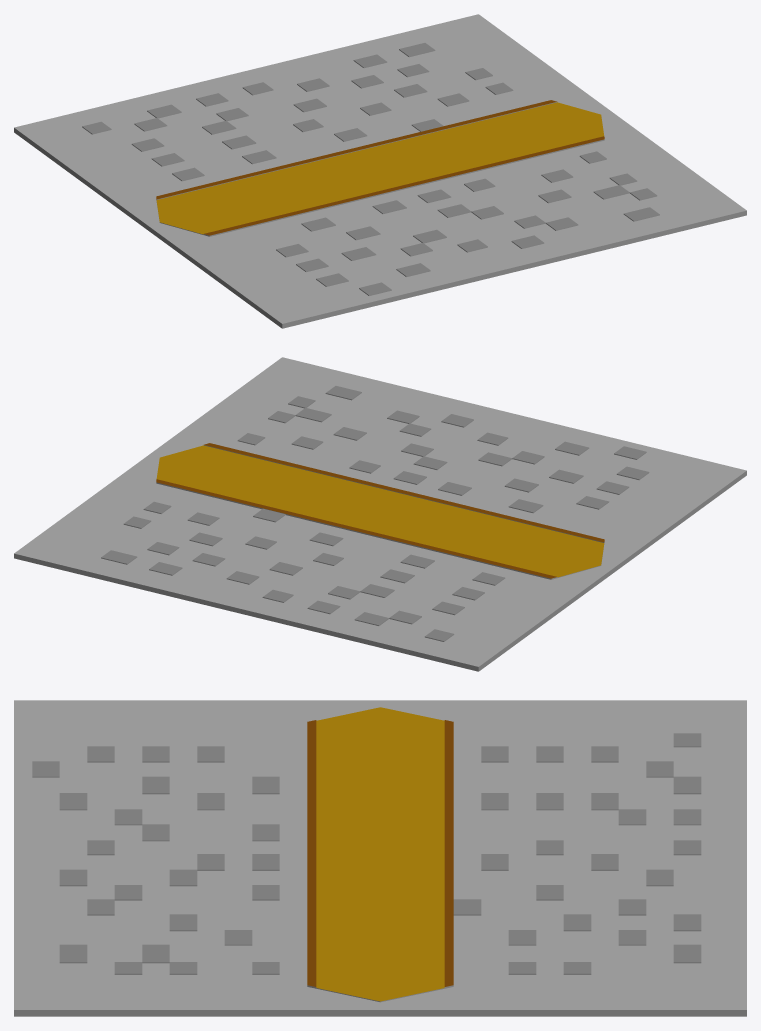
File: Test_Floor.fbx
The picture shows the model from 3 angles, top to bottom: view 1: azimuth 30°, elevation 25°; view 2: azimuth 150°, elevation 25°; view 3: azimuth 270°, elevation 25°; orthographic projection. The views are drawn at different scales.
Visible parts, largest first — view 1: Cube.001; view 2: Cube.001; view 3: Cube.001.
Part boxes in pixels (x1=…): Cube.001: x1=14, y1=14, x2=746, y2=328; Cube.001: x1=14, y1=357, x2=746, y2=671; Cube.001: x1=14, y1=700, x2=746, y2=1016.
Bounding box in the file's own units: 4000 × 50 × 4000.
